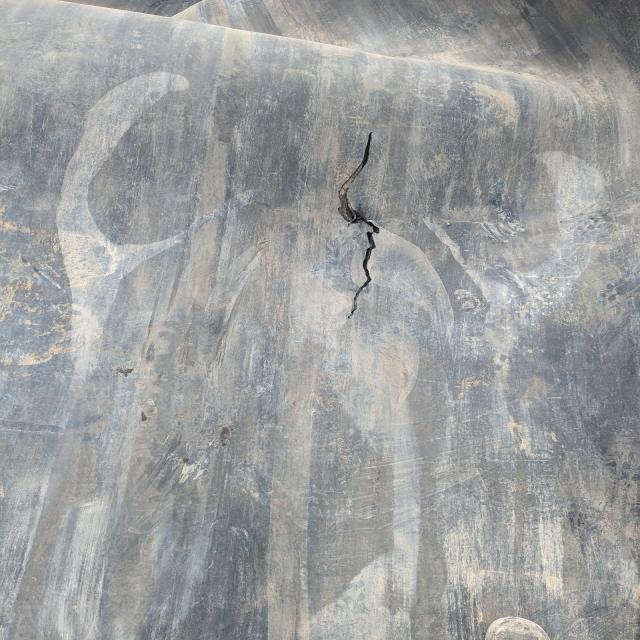Tear: (327, 127, 397, 326)
